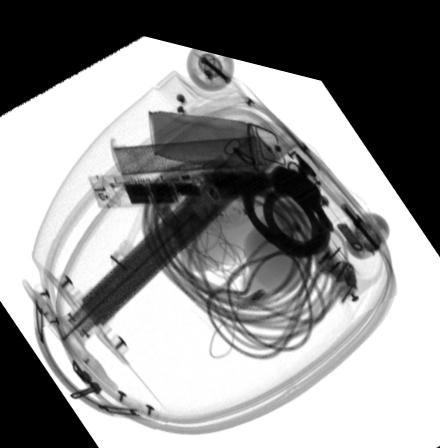Baton: (86, 155, 275, 202)
HandCuffs: (239, 134, 334, 245)
